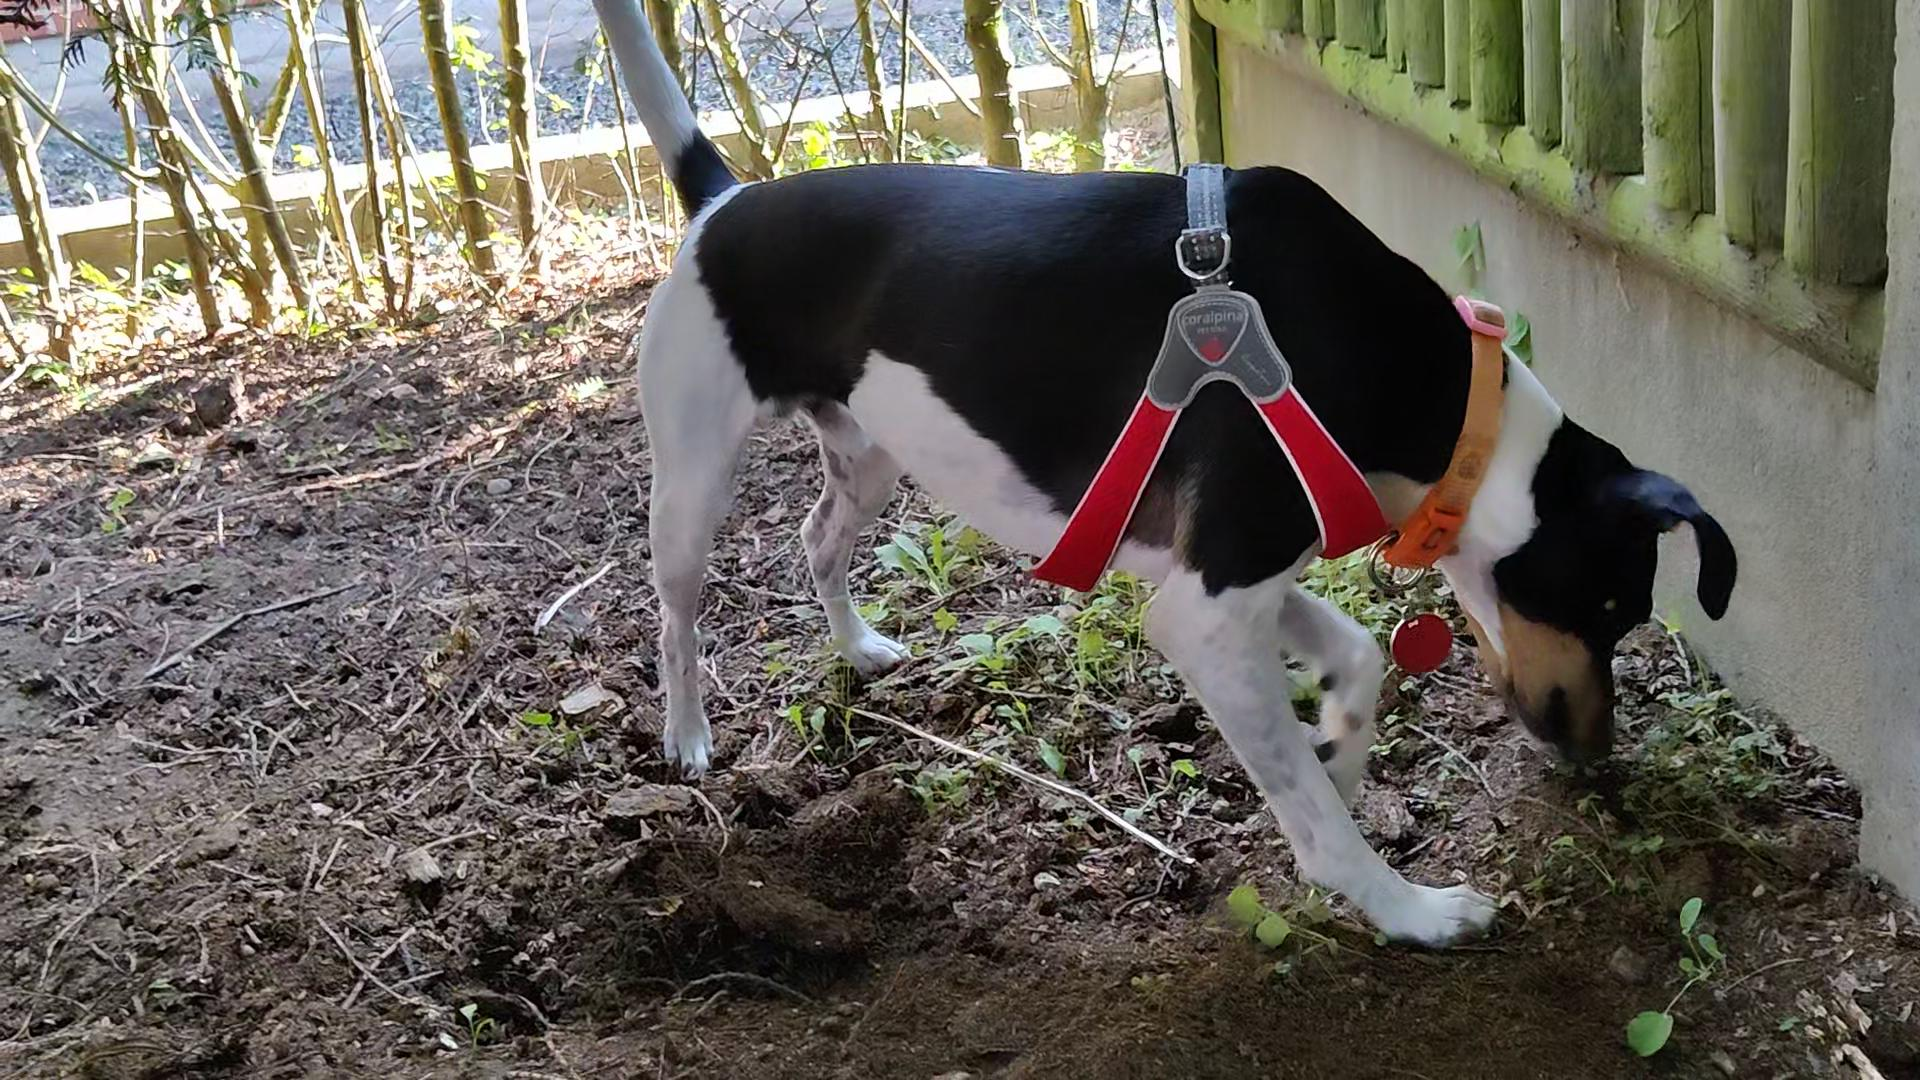Dog: (560, 0, 1779, 981)
